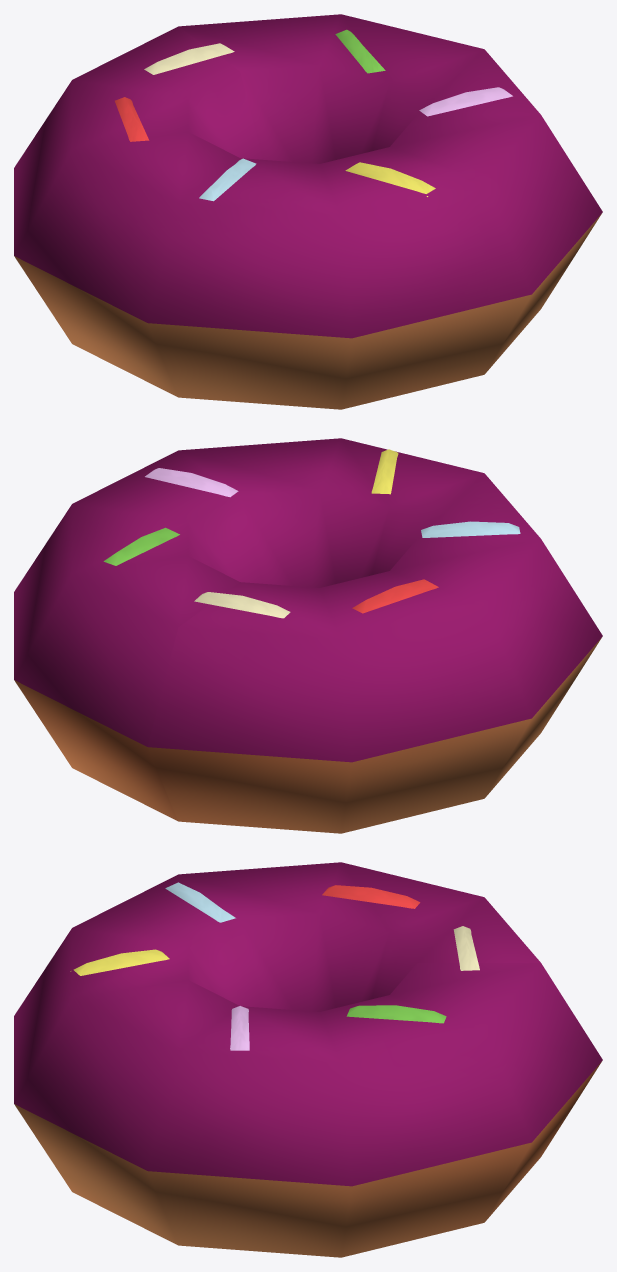
Rendered from Doughnut_A_2.FBX.
The picture shows the model from 3 angles, top to bottom: view 1: azimuth 30°, elevation 25°; view 2: azimuth 150°, elevation 25°; view 3: azimuth 270°, elevation 25°; orthographic projection.
Visible parts, largest first — view 1: Doughnut; view 2: Doughnut; view 3: Doughnut.
Boxes of the visible parts, x1,y1,x2,y2 form: Doughnut: [14, 14, 602, 409]; Doughnut: [14, 438, 602, 833]; Doughnut: [14, 862, 602, 1257].
Bounding box in the file's own units: 52.77 × 19.96 × 51.97.
